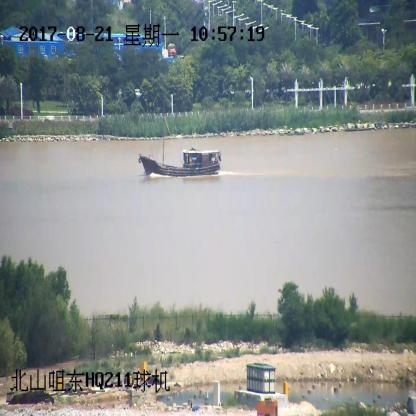Fishing Boat: (139, 117, 222, 176)
